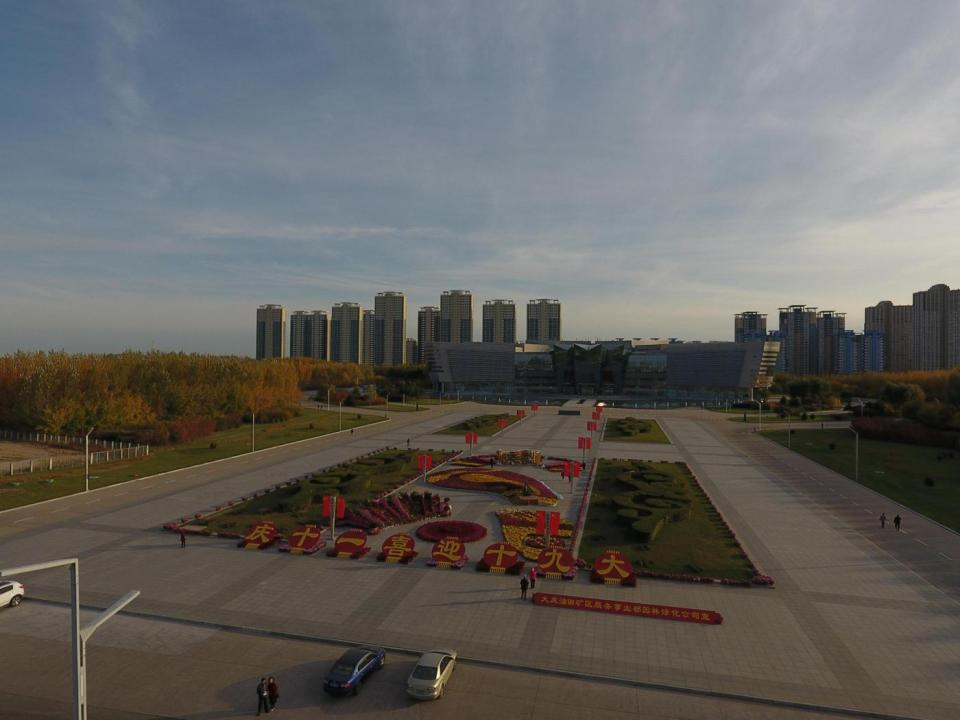car: (322, 644, 386, 698), (406, 648, 458, 702), (0, 578, 25, 608)
